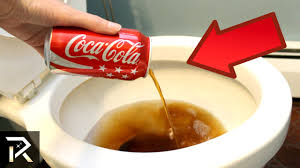can: (40, 17, 157, 84)
